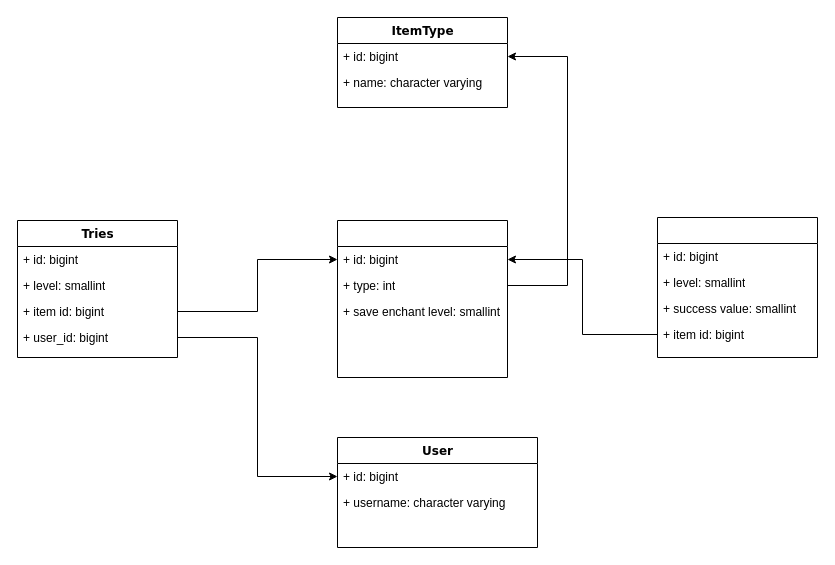
Some shapes in this 835 by 565 pixel diagram are drawn without their labels. Here are the shapes that lost their labels. From the top down, the box of each, then its label:
(336, 220, 508, 378): Item
(656, 216, 818, 358): Chance
